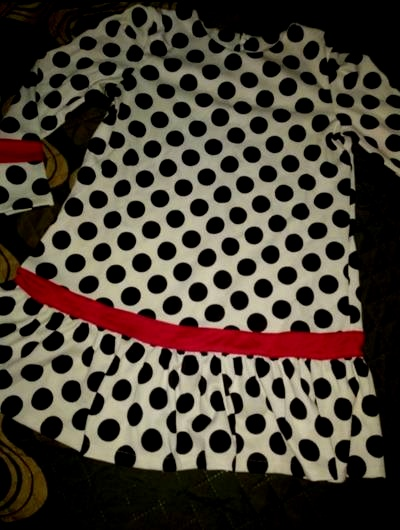Dress: (16, 11, 399, 496)
